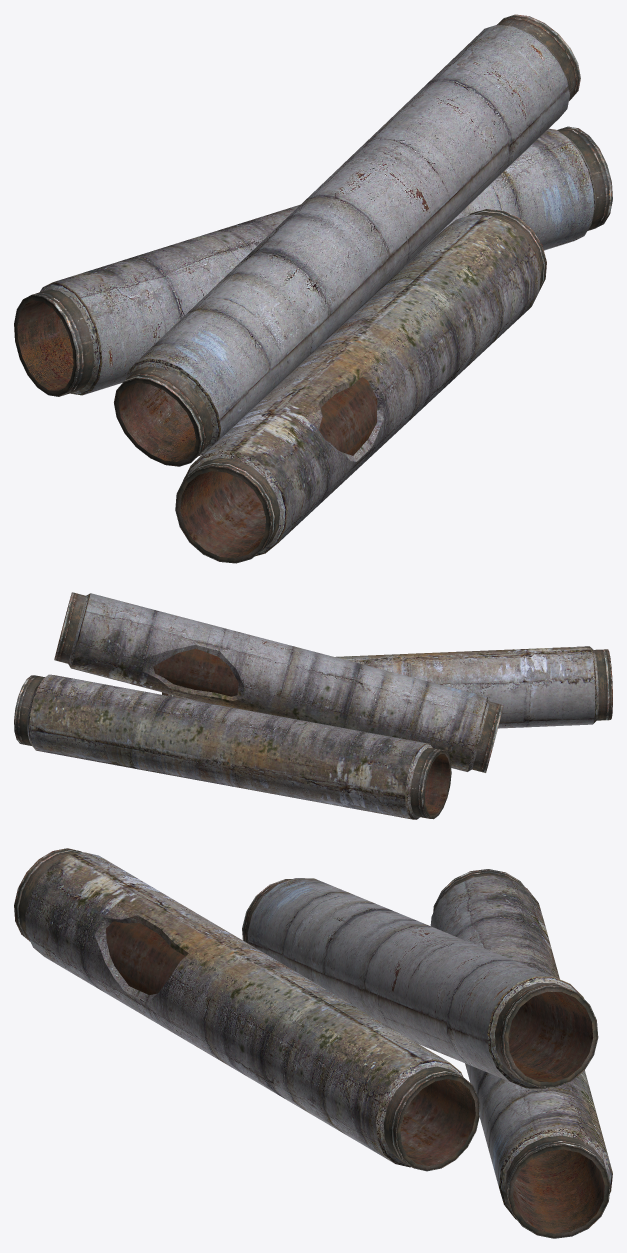
Rendered from truba_beton_04.fbx.
The picture shows the model from 3 angles, top to bottom: view 1: azimuth 30°, elevation 25°; view 2: azimuth 150°, elevation 25°; view 3: azimuth 270°, elevation 25°; orthographic projection. The views are drawn at different scales.
Visible parts, largest first — view 1: truba_beton_04.object; view 2: truba_beton_04.object; view 3: truba_beton_04.object.
Part boxes in pixels (x1,y1,x2,y2): truba_beton_04.object: (14,14,612,563); truba_beton_04.object: (14,592,612,819); truba_beton_04.object: (14,848,612,1238).
Size of the model in its own units: 841 by 292 by 688.
